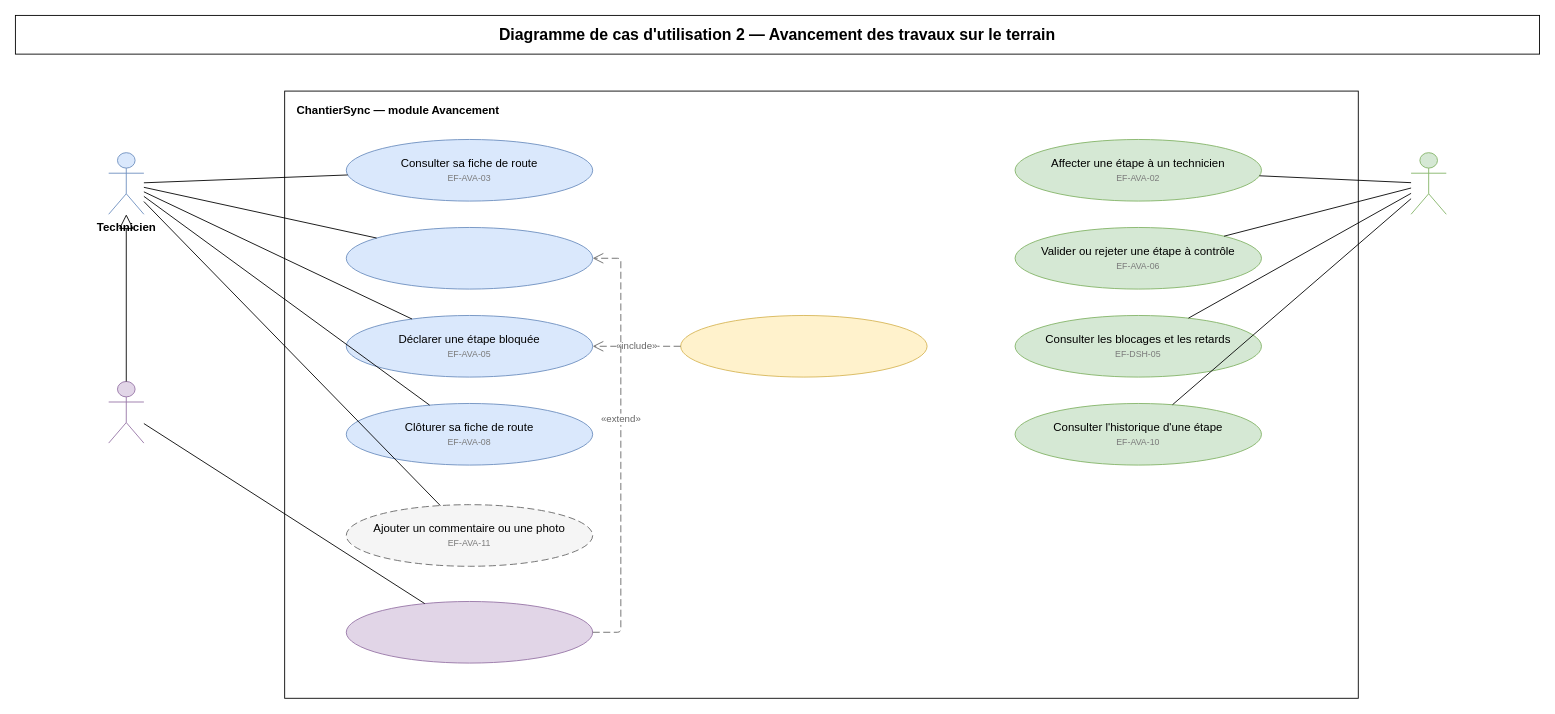
Some shapes in this 1555 by 714 pixel diagram are drawn without their labels. Each missing label, with the centre of its shape:
"Chef d'équipe" belongs at (x=126, y=412).
"Chef de chantier" belongs at (x=1428, y=183).
"Cocher une étape terminée EF-AVA-04" belongs at (x=469, y=258).
"Déclarer pour le compte d'un technicien EF-AVA-07" belongs at (x=469, y=632).
"Signaler l'article manquant RG-A10" belongs at (x=803, y=346).
